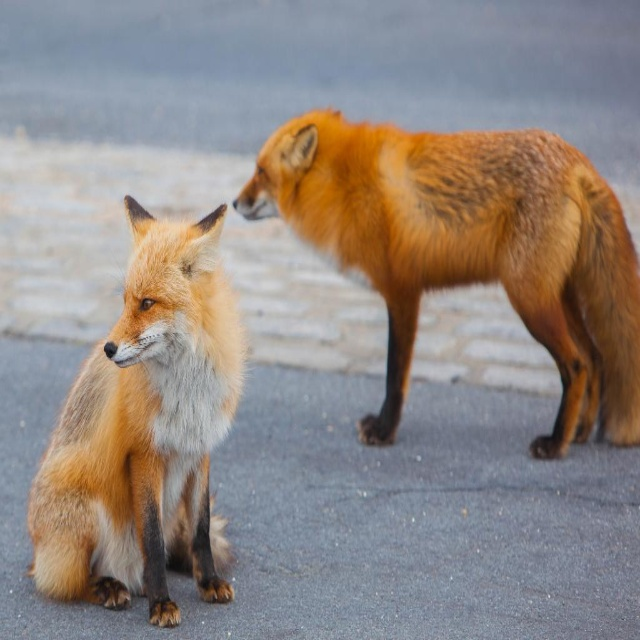Fox: (232, 106, 640, 461), (25, 193, 256, 628)
